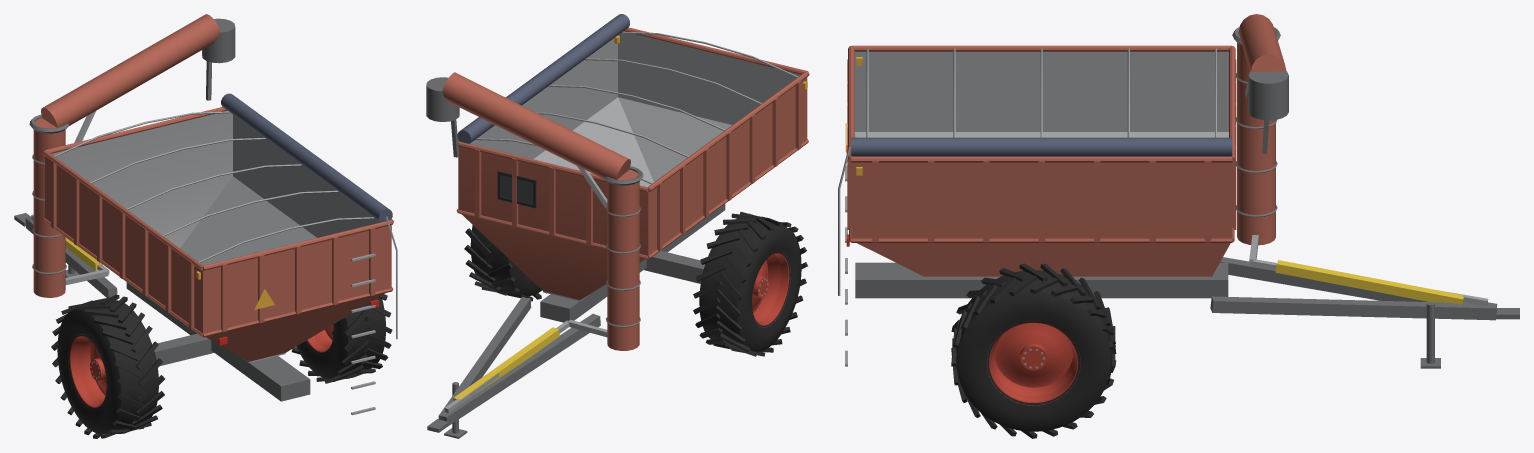
The model's file is graincart.glb.
The picture shows the model from 3 angles, left to right: view 1: azimuth 30°, elevation 25°; view 2: azimuth 150°, elevation 25°; view 3: azimuth 270°, elevation 25°; orthographic projection. The views are drawn at different scales.
Visible parts, largest first — view 1: cart_body, wheel_L_t, wheel_R_t; view 2: cart_body, wheel_L_t, wheel_R_t; view 3: cart_body, wheel_R_t.
Boxes of the visible parts, x1,y1,x2,y2 form: cart_body: (14, 14, 397, 415); wheel_L_t: (51, 295, 164, 438); wheel_R_t: (291, 294, 392, 383); cart_body: (426, 14, 809, 438); wheel_L_t: (693, 212, 807, 356); wheel_R_t: (464, 225, 546, 301); cart_body: (838, 14, 1519, 368); wheel_R_t: (951, 263, 1116, 438).
Bounding box in the file's own units: 4.7 × 4.83 × 8.42.
